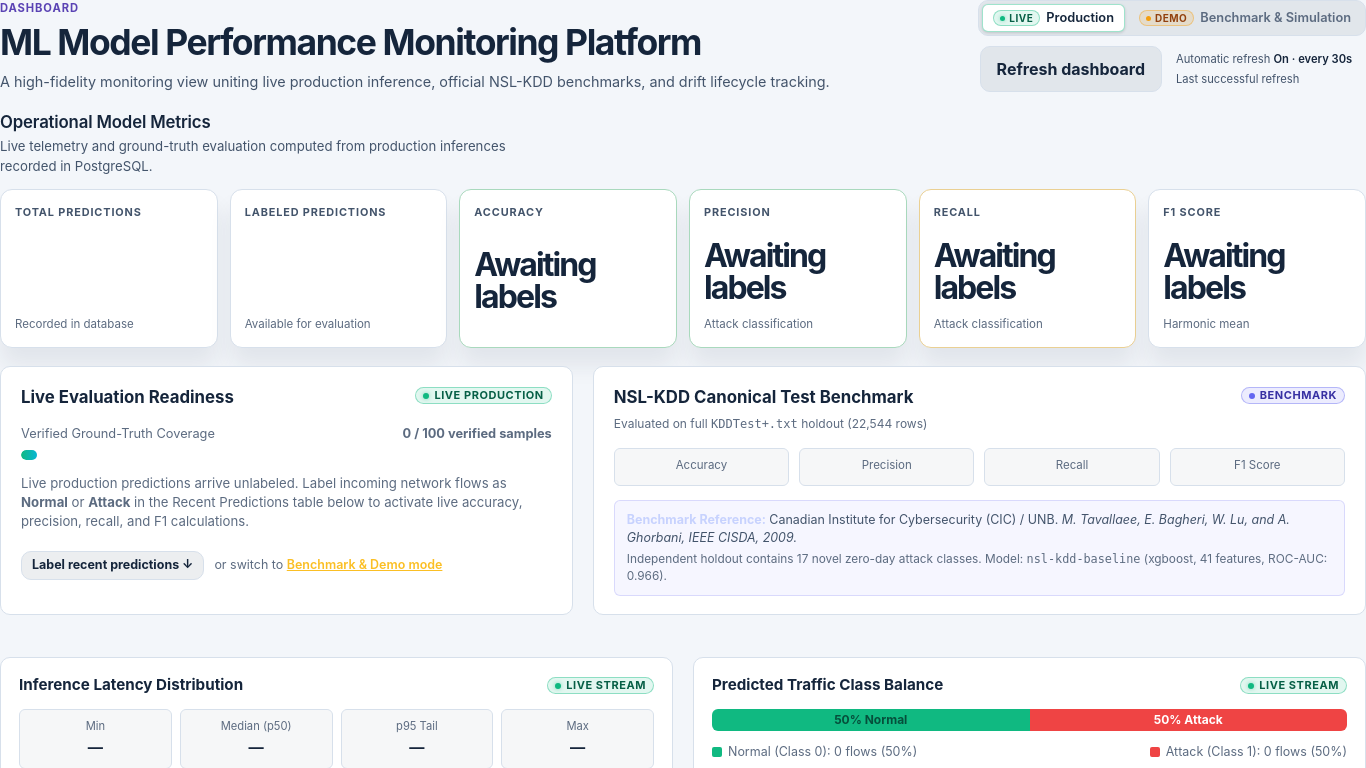
Dashboard › renders benchmark comparison card and allows toggling to demo mode
Expected: the heading "NSL-KDD Canonical Test Benchmark" is shown, [614,387,913,407]
Expected: the text "Evaluated on full KDDTest+.txt holdout (22,544 rows)" is shown, [614,416,927,431]
// Toggle to Demo mode
Click the button "Demo Benchmark & Simulation" at point(1245, 18), box [1128,4,1362,32]
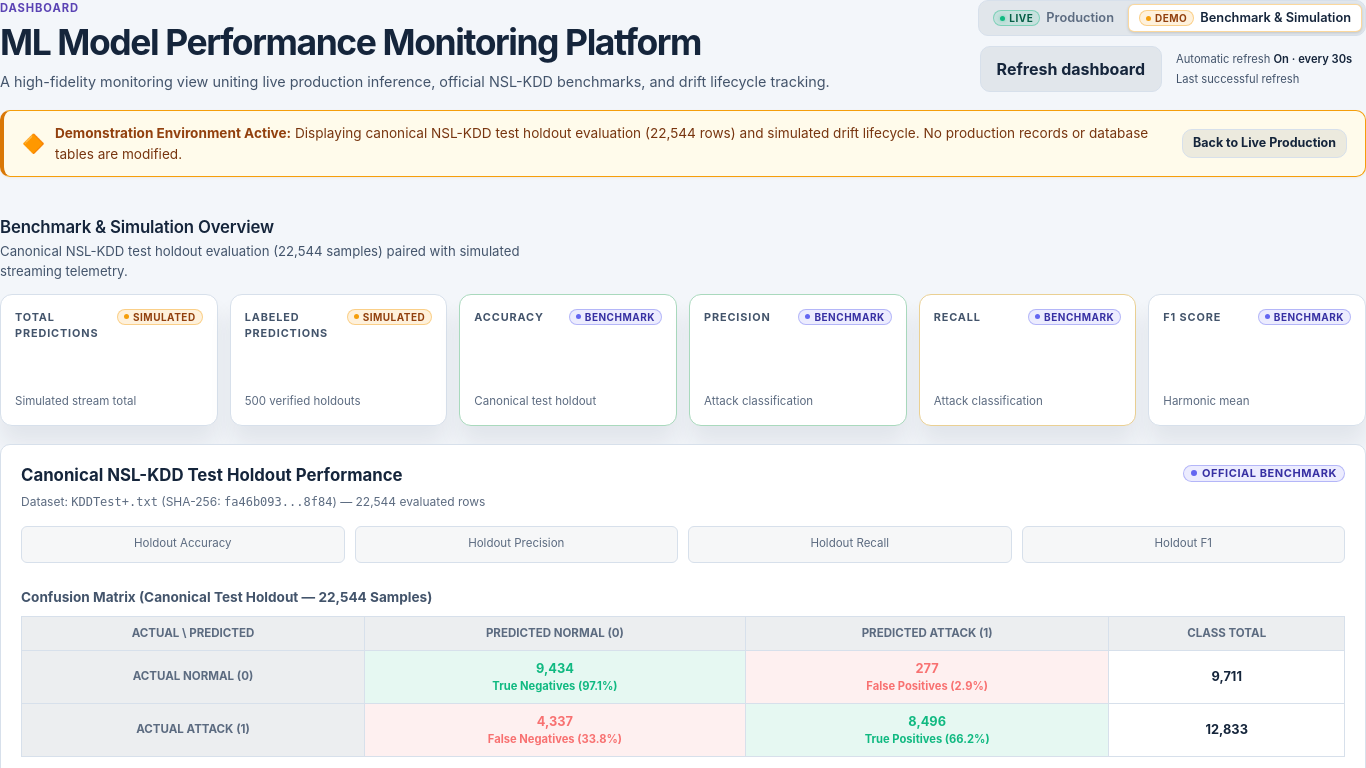
Expected: the text "Demonstration Environment Active:" is shown, [55,125,291,141]
Expected: the heading "Confusion Matrix (Canonical Test Holdout — 22,544 Samples)" is shown, [21,589,432,605]
Expected: the text "9,434" is shown, [536,661,574,676]
